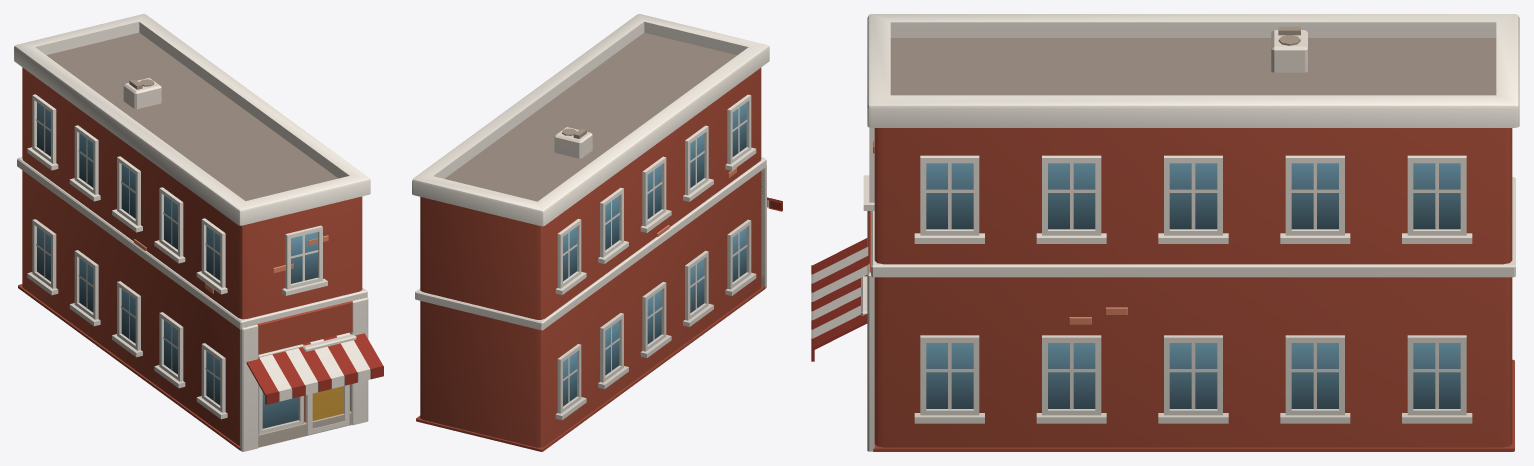
The model's file is boylston_s22.glb.
3 views of the same model, side by side, from view 1: azimuth 30°, elevation 25°; view 2: azimuth 150°, elevation 25°; view 3: azimuth 270°, elevation 25° (orthographic). The views are drawn at different scales.
Visible parts, largest first — view 1: boylston_s22; view 2: boylston_s22; view 3: boylston_s22.
Boxes of the visible parts, bbox=[...] form: boylston_s22: bbox=[14, 14, 383, 451]; boylston_s22: bbox=[412, 14, 782, 451]; boylston_s22: bbox=[811, 14, 1519, 451].
Size of the model in its own units: 4.98 by 8.79 by 15.55.
1 material, 1 textured.
